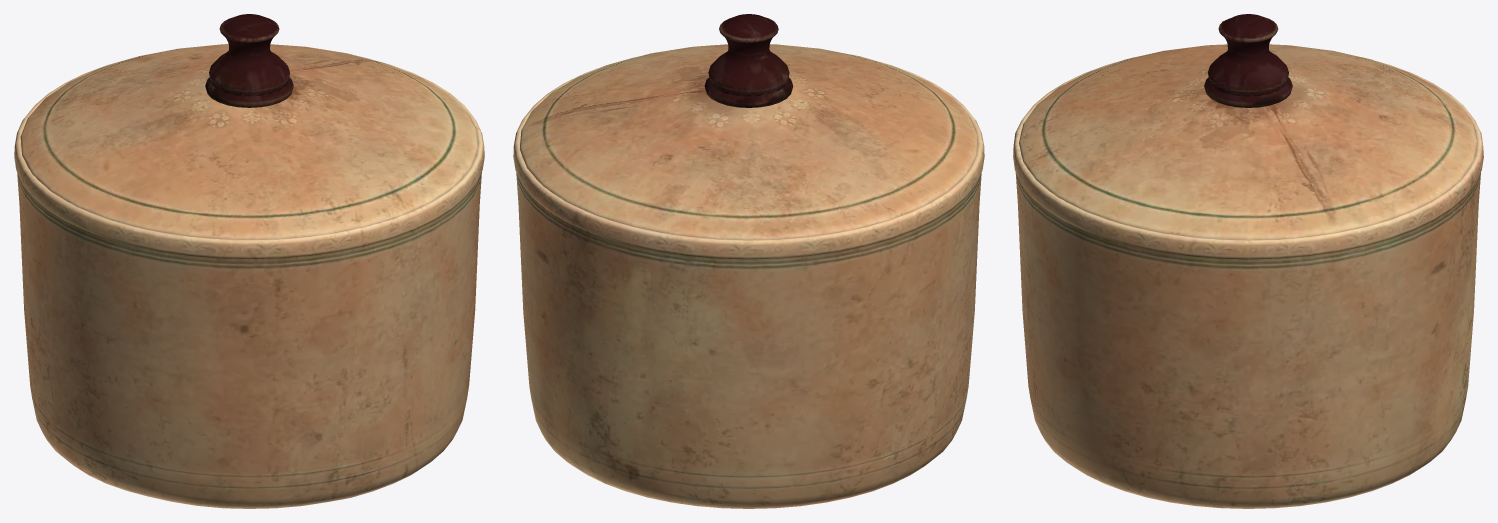
Rendered from brass_pot_01.glb.
3 views of the same model, side by side, from view 1: azimuth 30°, elevation 25°; view 2: azimuth 150°, elevation 25°; view 3: azimuth 270°, elevation 25° (orthographic).
Visible parts, largest first — view 1: brass_pot_01; view 2: brass_pot_01; view 3: brass_pot_01.
Boxes of the visible parts, x1,y1,x2,y2 form: brass_pot_01: (14,14,484,508); brass_pot_01: (513,14,984,508); brass_pot_01: (1013,14,1483,508).
Bounding box in the file's own units: 0.3019 × 0.2909 × 0.3017.
Materials: 1 (1 with a texture image).
